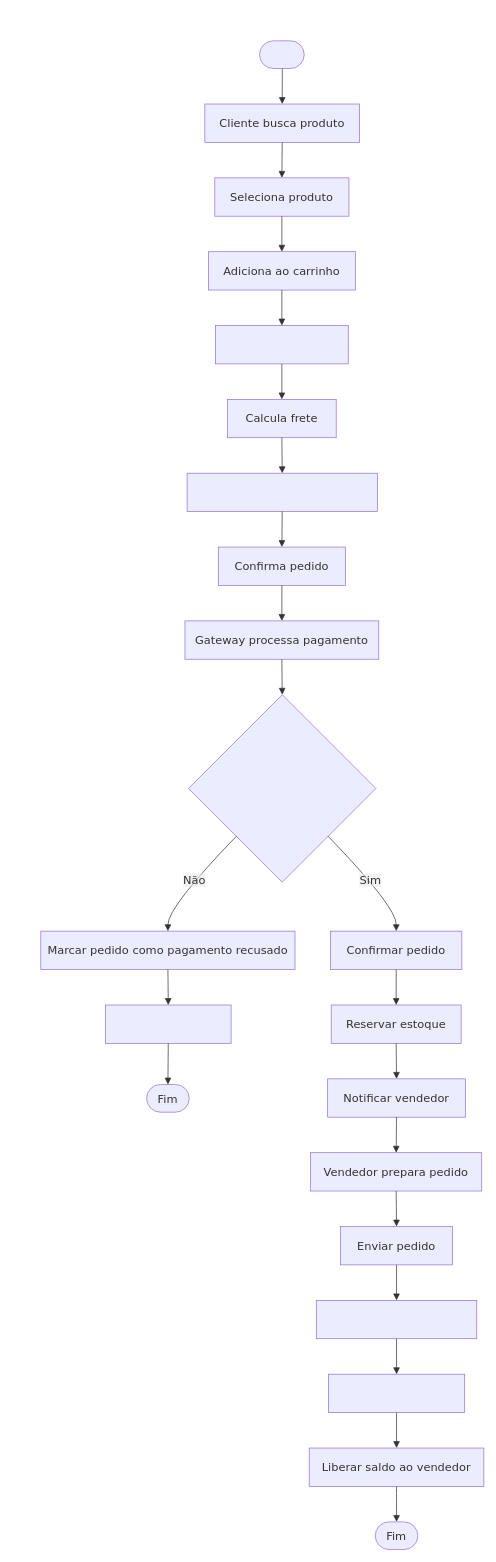
Image size: 496x1562. Some labels were removed from this diagram. Here are the shapes that lost their labels. From the top down, the box of each, then its label:
(259, 40, 304, 69): Início
(215, 325, 348, 364): Informa endereço
(186, 473, 377, 512): Escolhe forma de pagamento
(188, 694, 376, 882): Pagamento aprovado?
(105, 1004, 231, 1043): Notificar cliente
(316, 1300, 477, 1339): Atualizar rastreamento
(328, 1373, 465, 1413): Confirmar entrega
